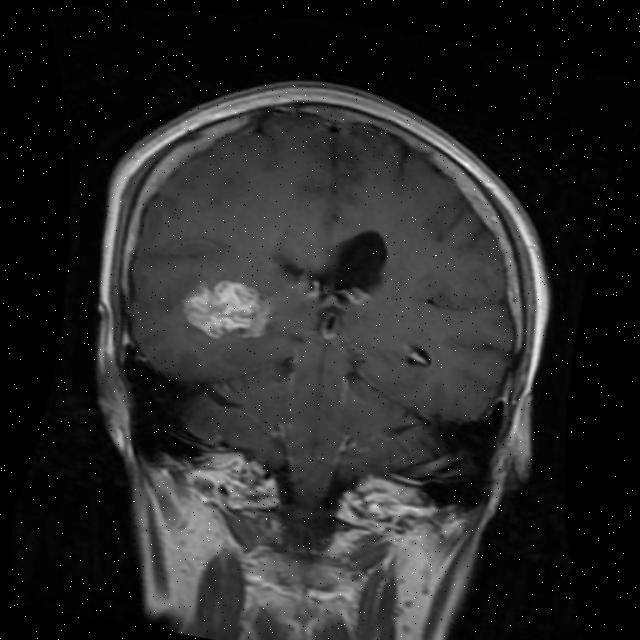Glioma: (178, 271, 277, 350)
